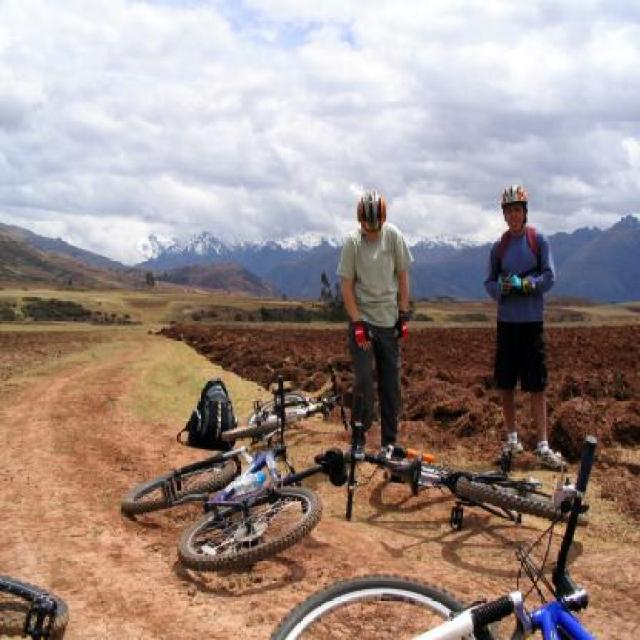Person: (483, 185, 568, 473), (335, 190, 413, 462)
